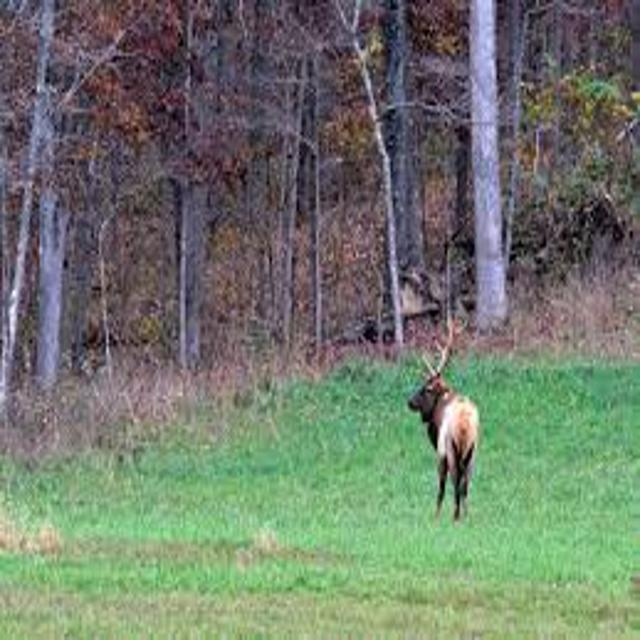deer: (374, 294, 535, 542)
